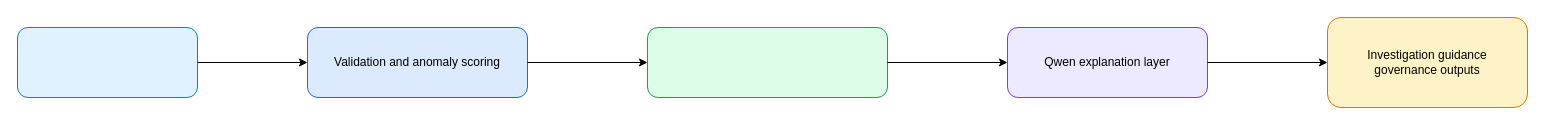
Image size: 1545x125. Some labels were removed from this diagram. The box of each missing label's shape, as (x1, y1, x2, y2) in pixels:
Fraud and risk inputs: (16, 26, 198, 98)
Operational extraction and retrieval: (646, 26, 888, 98)
